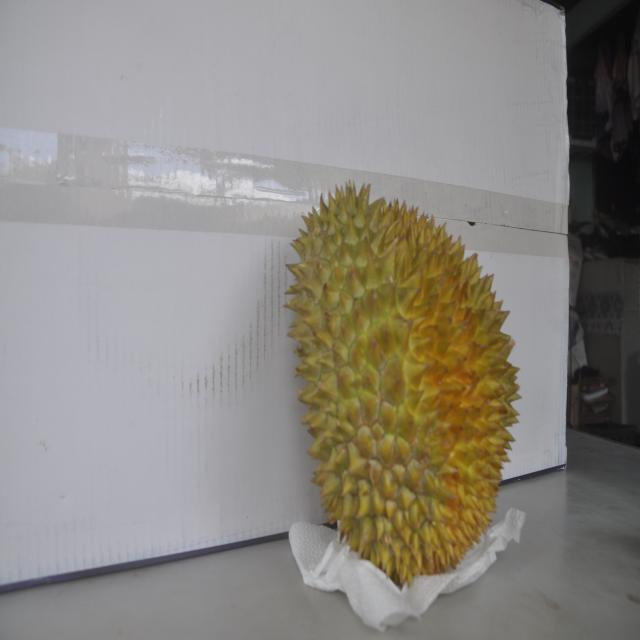mature: (290, 176, 523, 582)
